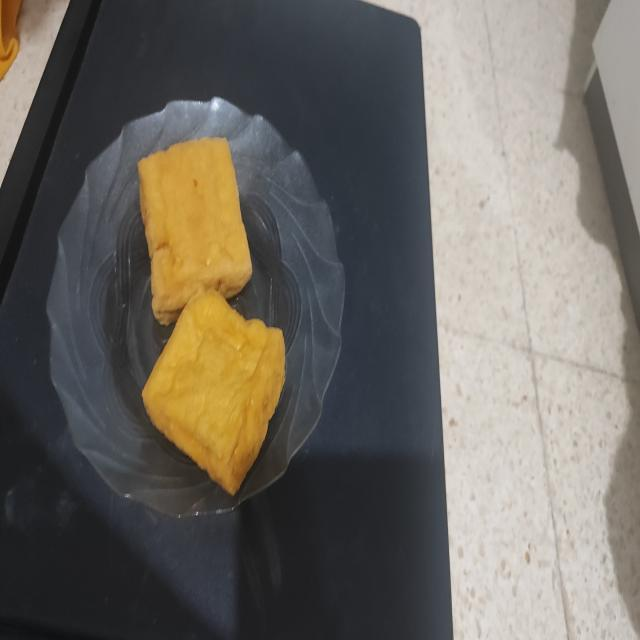tahu_goreng: (142, 290, 285, 496), (138, 138, 252, 324)
